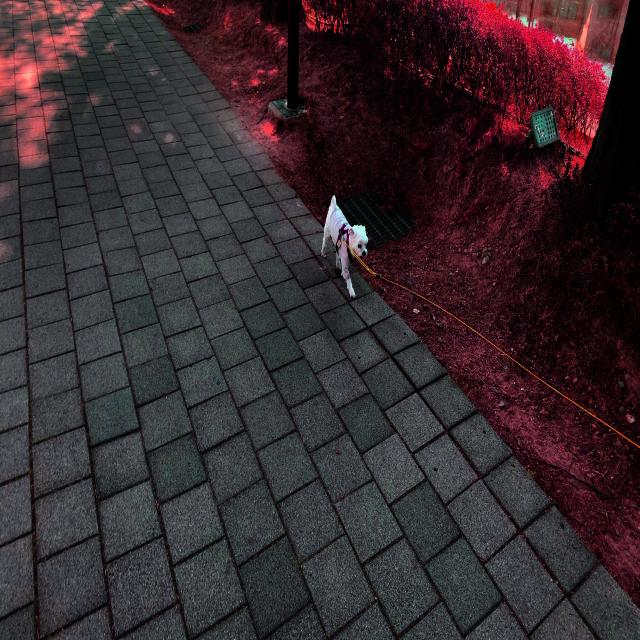Dog: (321, 195, 368, 300)
